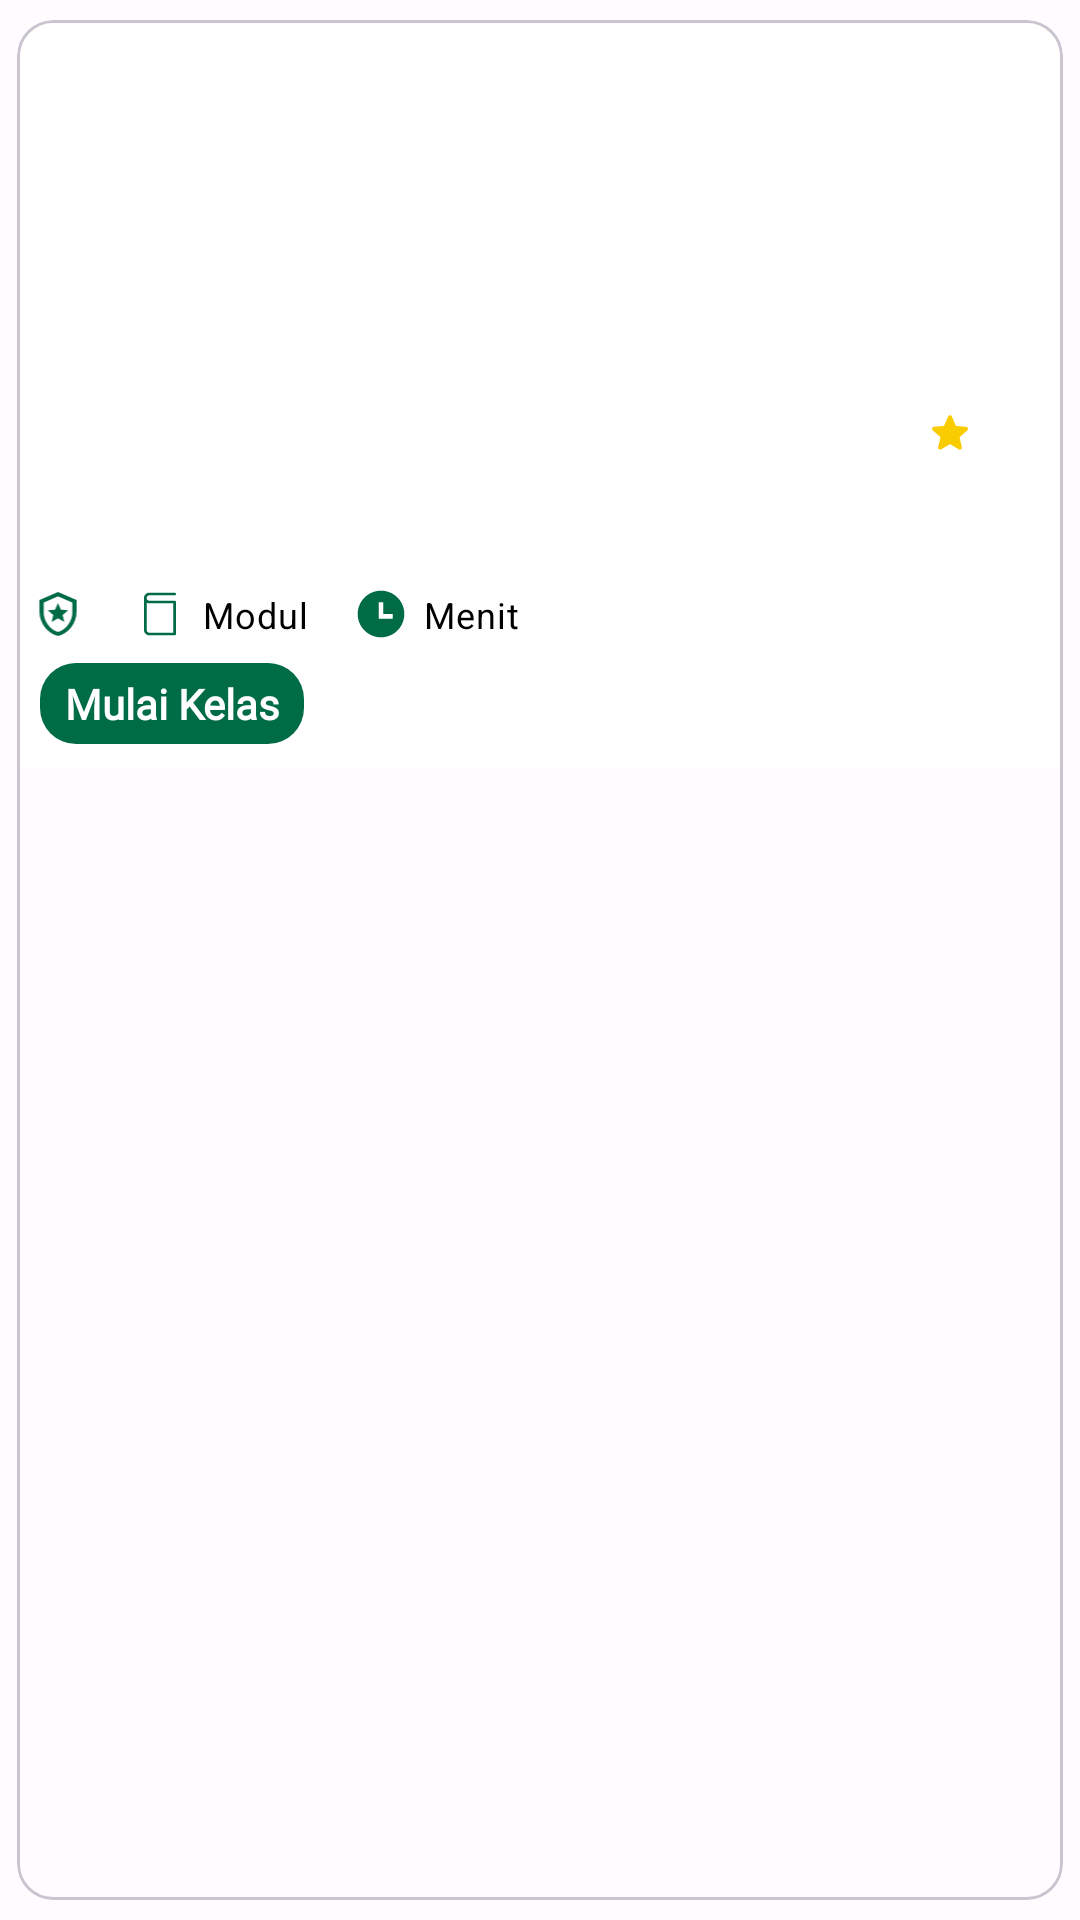

Point at icon controls on the screen. Image size 1080px x 1920px, points as [x,y].
level: [58,614]
rating: [950,432]
time: [381,614]
